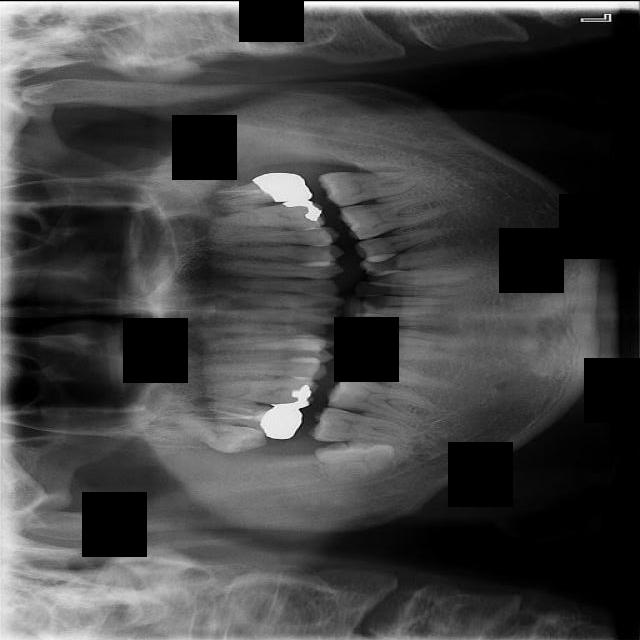3M ESPE Implant: (157, 410, 269, 459)
52: (273, 195, 327, 234), (251, 171, 312, 202), (257, 403, 305, 442), (267, 376, 320, 408)
73: (187, 392, 273, 436), (215, 177, 275, 209), (576, 26, 592, 34)
BioHorizons Implant: (215, 168, 313, 209)
Blue Sky Bio Implant: (316, 166, 420, 207)
Caries: (187, 396, 304, 441)
Implant: (307, 403, 416, 452)
Keystone Dental Implant: (313, 430, 400, 488)
